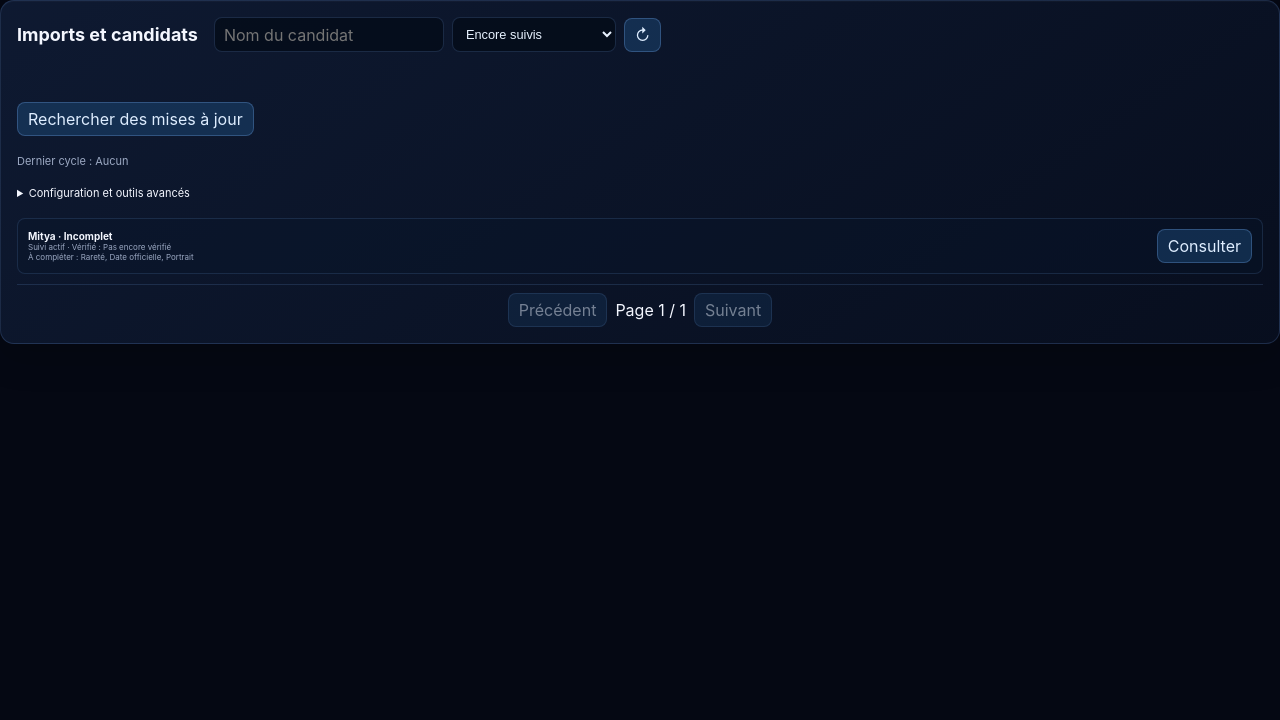
Test: Character import ADMIN surface › explains found/missing/retry and blocked storage without offering a blind publication
This screenshot has width=1280, height=720.
Click the button "Consulter".
click(1204, 246)  # box [1157,229,1252,263]
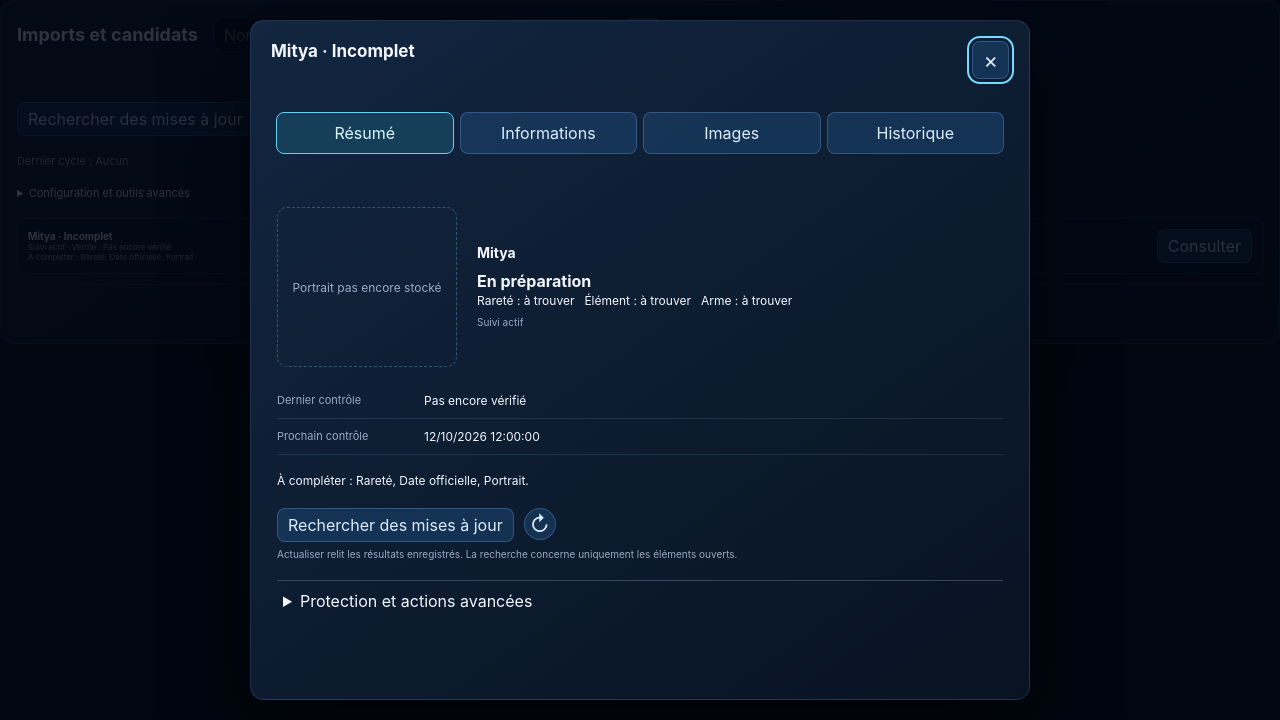
Now the dialog shows "Date officielle", box [277,473,529,488]
Now the dialog shows "En préparation", box [477,271,591,291]
Click the tab "Informations".
click(548, 133)  # box [460,112,637,154]
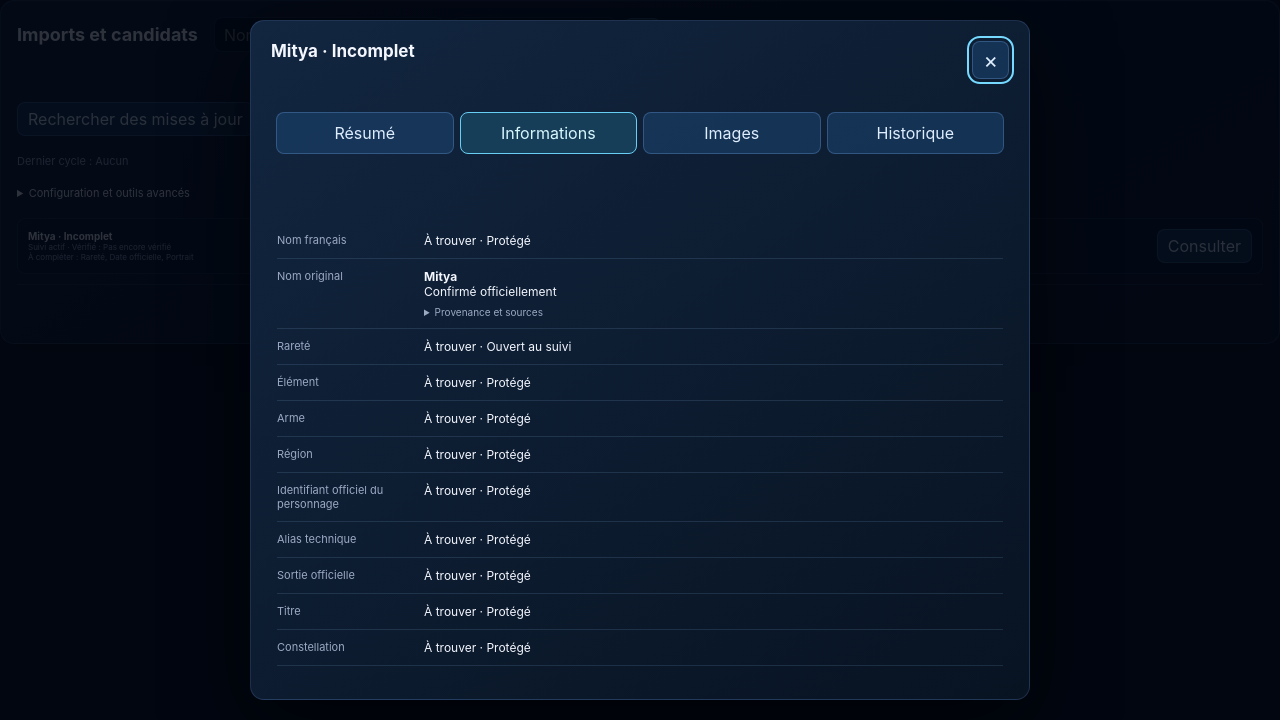
Click the tab "Images".
click(732, 133)  # box [643,112,820,154]
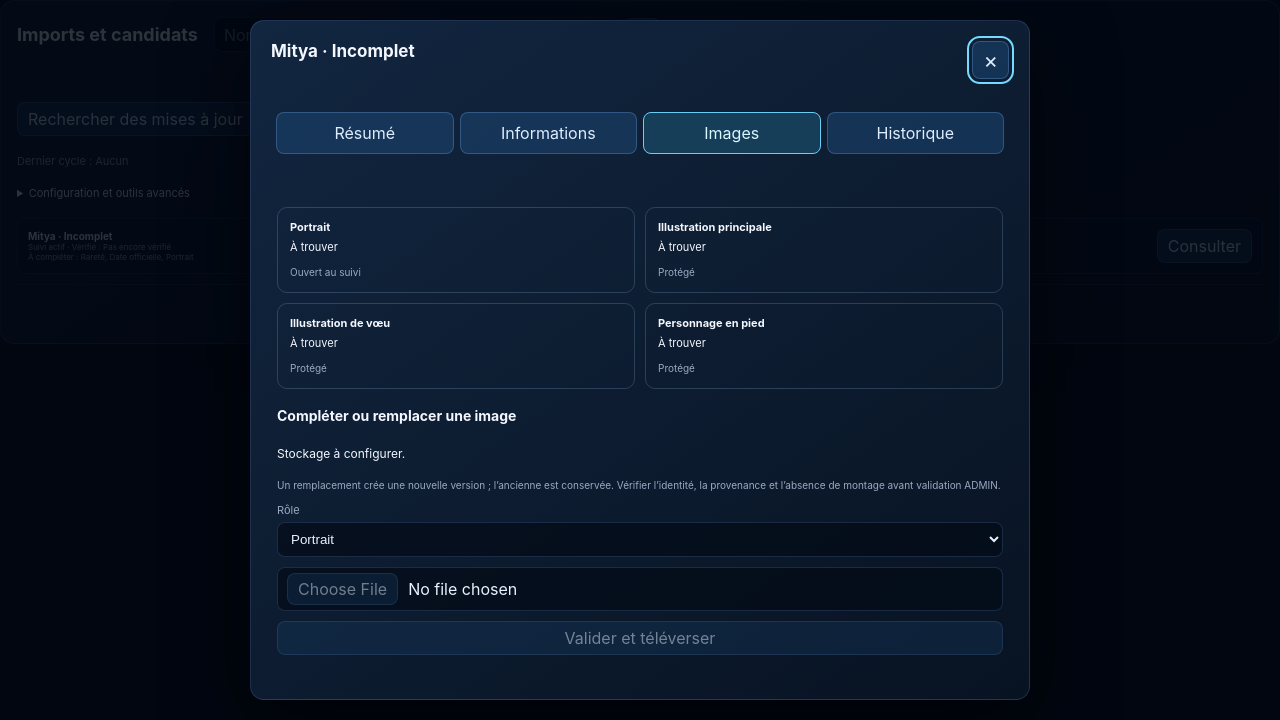
Now the button "Valider et téléverser" is disabled, box [277,621,1003,655]
